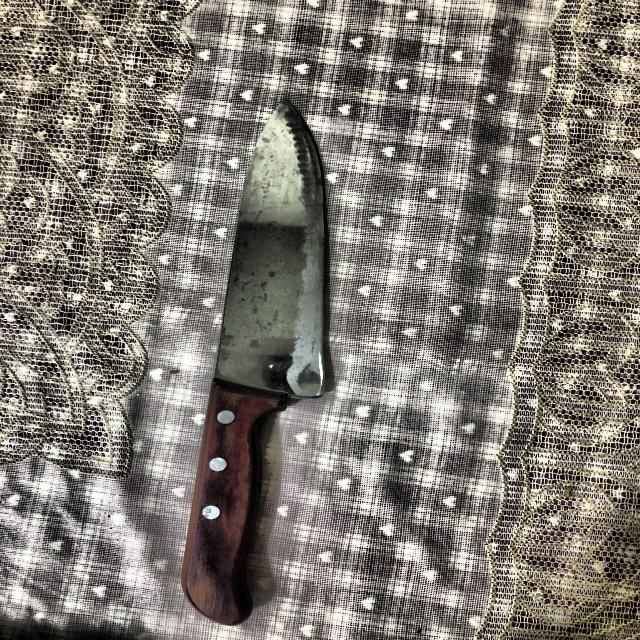knife: (181, 98, 326, 624)
